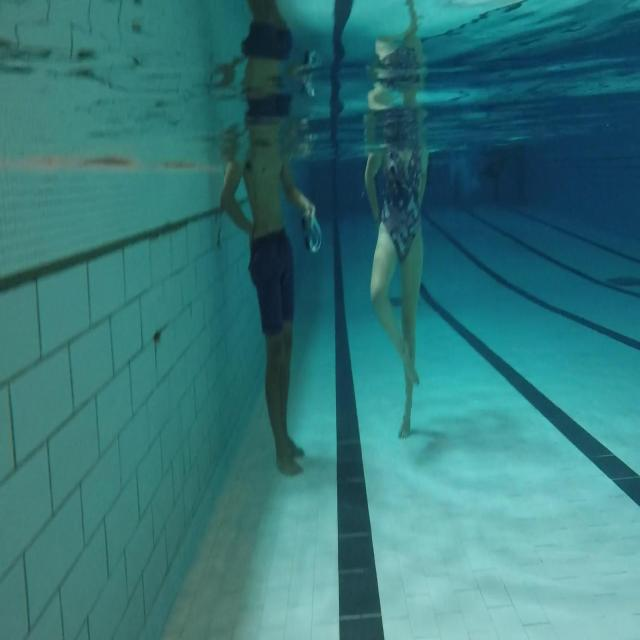human: (214, 2, 321, 476), (363, 0, 429, 439)
